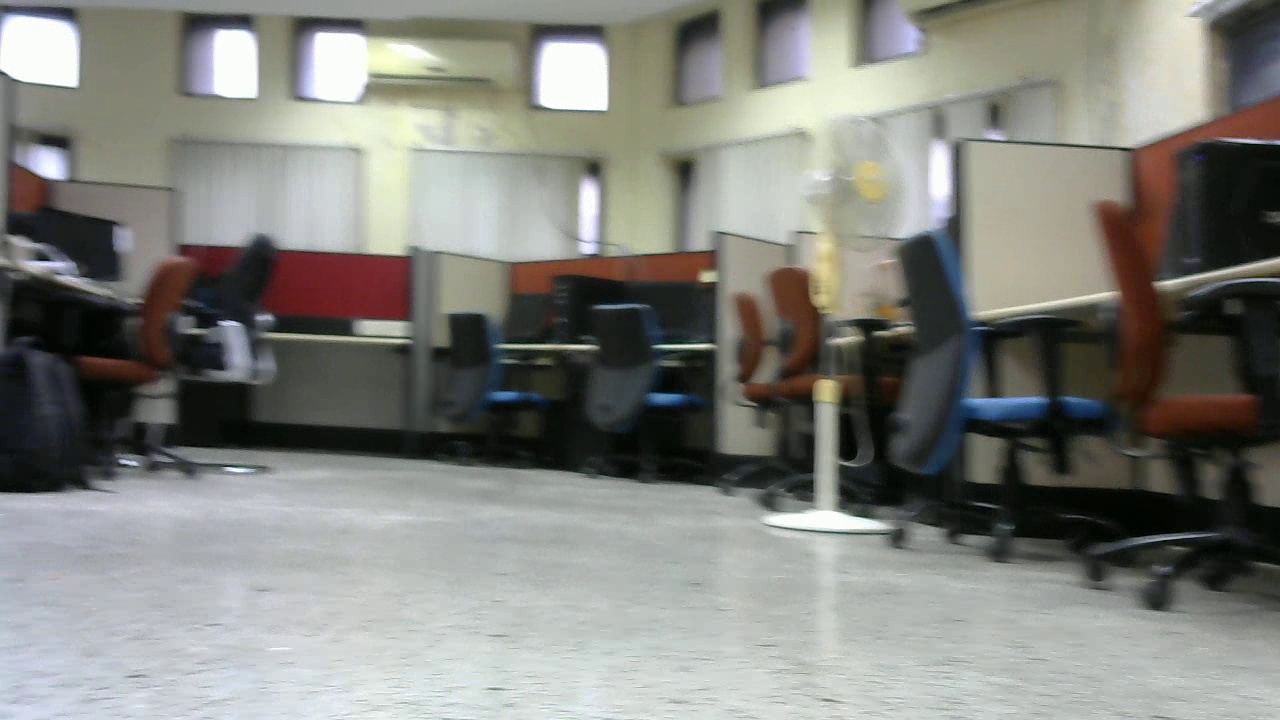chair: (1075, 197, 1280, 617), (878, 238, 1112, 562), (723, 262, 905, 505), (152, 254, 295, 472), (570, 305, 714, 491), (81, 251, 202, 470), (422, 309, 572, 471)
